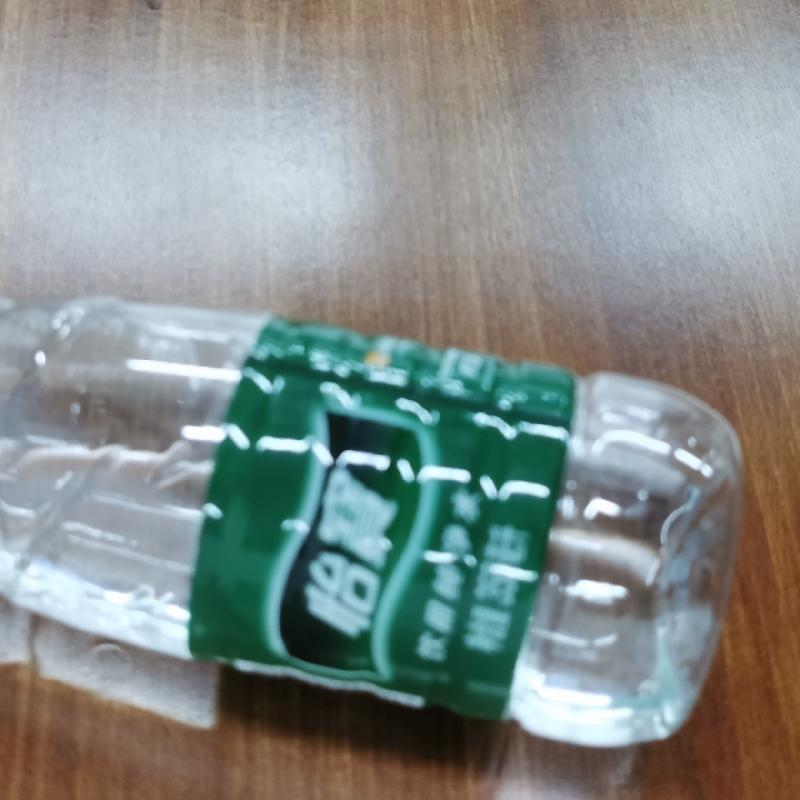bottles: (2, 295, 728, 752)
